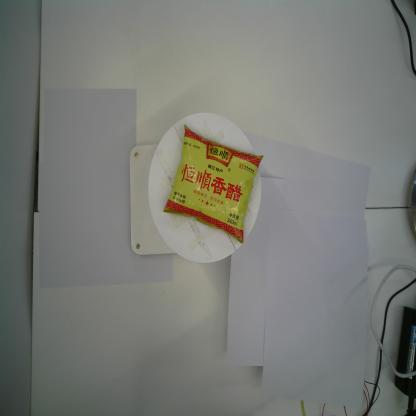Seasoner: (162, 124, 264, 244)
